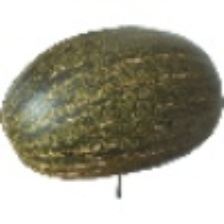honeydew: (26, 3, 161, 196)
